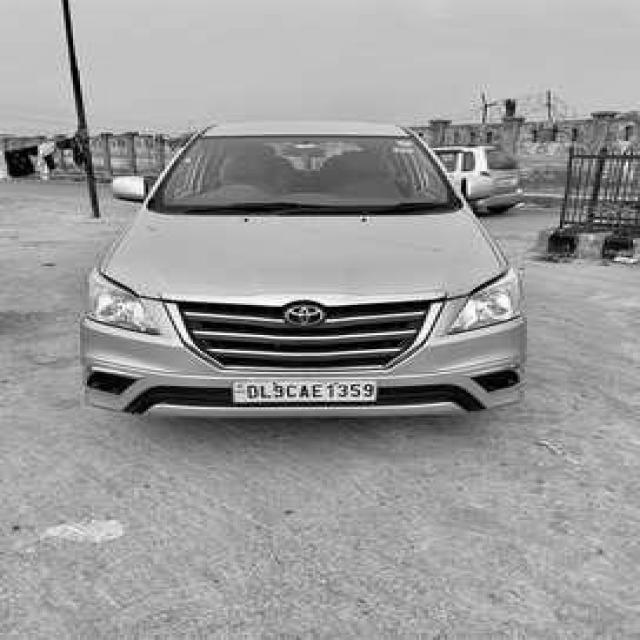car: (75, 122, 532, 444)
license-plate: (236, 376, 376, 406)
